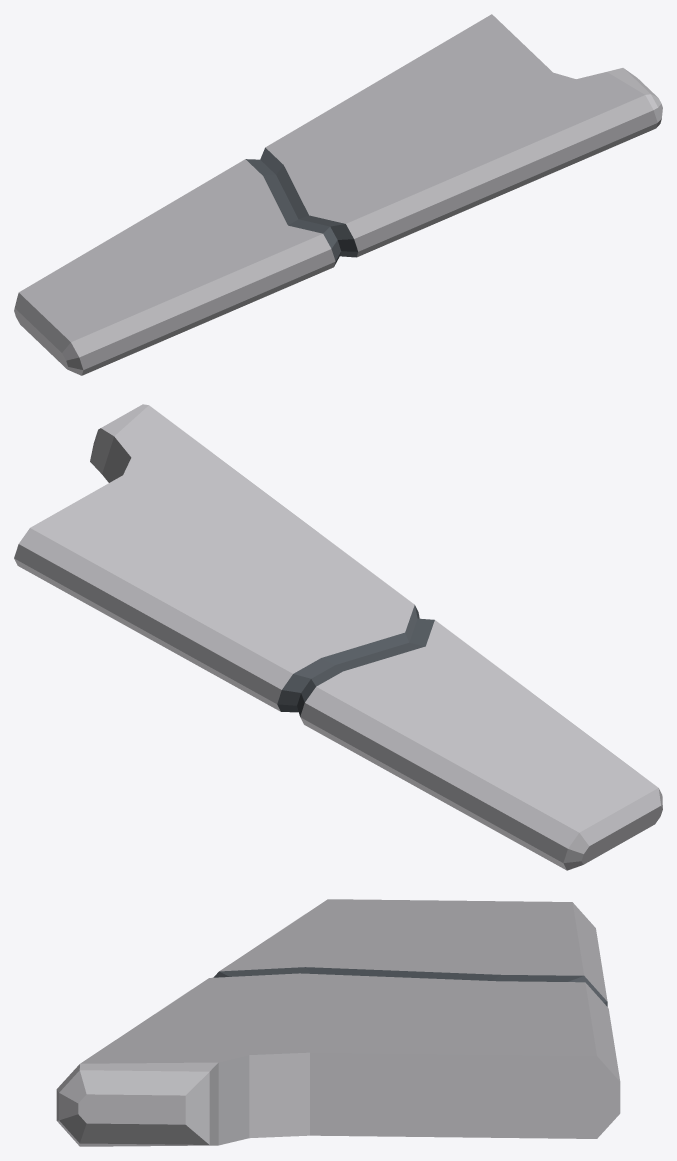
The model's file is Fighter_07_Auxillary_Wing_Right.fbx.
3 renders of one model, top to bottom at view 1: azimuth 30°, elevation 25°; view 2: azimuth 150°, elevation 25°; view 3: azimuth 270°, elevation 25°, orthographic. The views are drawn at different scales.
Parts seen in each view (by area): view 1: Fighter_07_Auxillary_Wing_Right; view 2: Fighter_07_Auxillary_Wing_Right; view 3: Fighter_07_Auxillary_Wing_Right.
Boxes of the visible parts, bbox=[...] form: Fighter_07_Auxillary_Wing_Right: bbox=[14, 14, 662, 375]; Fighter_07_Auxillary_Wing_Right: bbox=[14, 404, 662, 870]; Fighter_07_Auxillary_Wing_Right: bbox=[56, 899, 620, 1146].
Bounding box in the file's own units: 412 × 149 × 186.
Materials: 1 (1 with a texture image).
